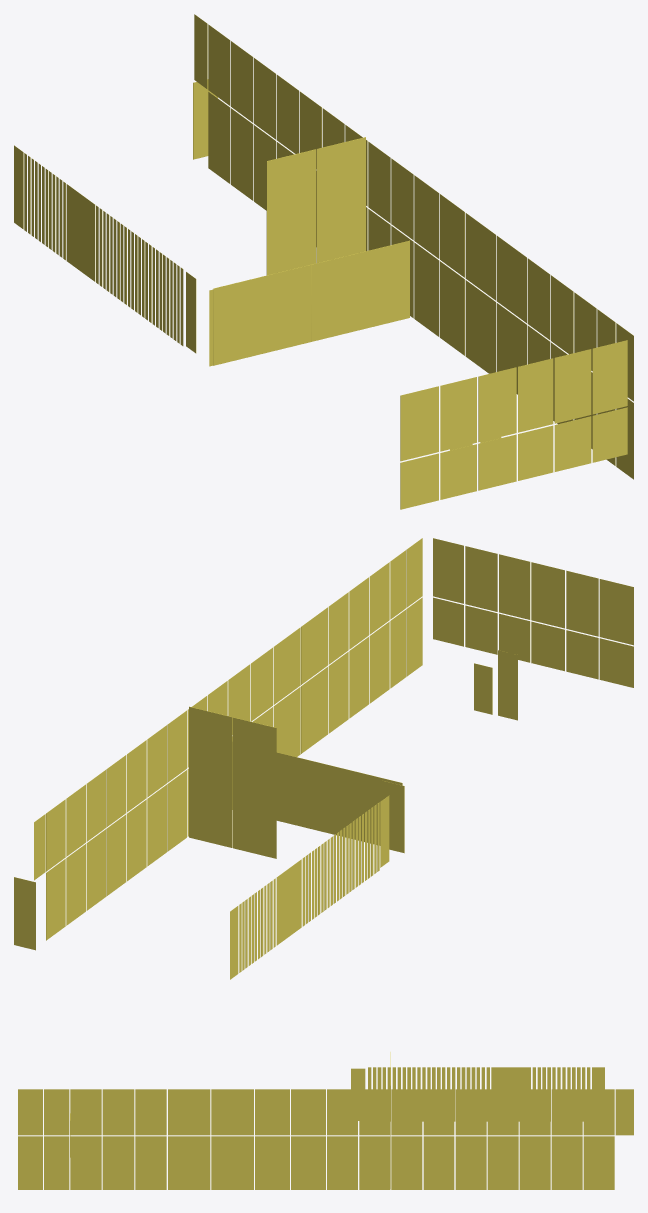
3 views of the same model, one above another, from view 1: azimuth 30°, elevation 25°; view 2: azimuth 150°, elevation 25°; view 3: azimuth 270°, elevation 25° (orthographic). The views are drawn at different scales.
Visible parts, largest first — view 1: Academia_glass; view 2: Academia_glass; view 3: Academia_glass.
Boxes of the visible parts, x1=… form: Academia_glass: x1=14, y1=14, x2=633, y2=509; Academia_glass: x1=14, y1=538, x2=633, y2=979; Academia_glass: x1=18, y1=1052, x2=633, y2=1189.
Size of the model in its own units: 106 by 58.31 by 313.
